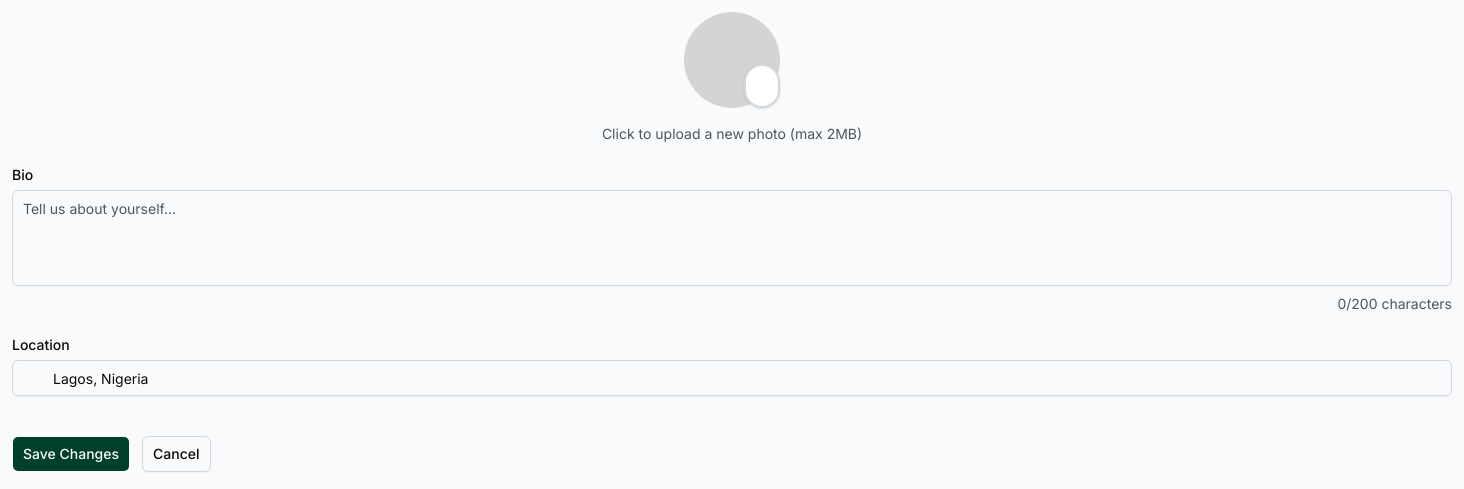
Test case: ProfileEditForm › Bio Character Limit › shows updated character count when typing
Type "Hello world" into the text box with placeholder "Tell us about yourself..." at (732, 238), box [12,190,1452,286]
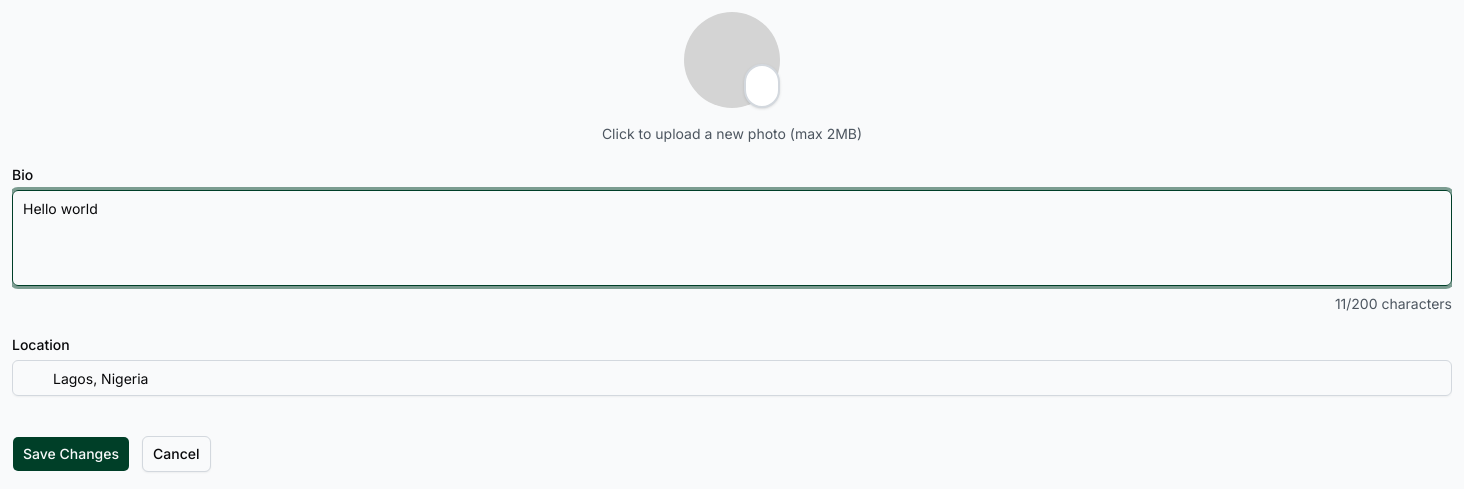
Result: the text "11/200 characters" is shown at [1335,295,1452,312]
